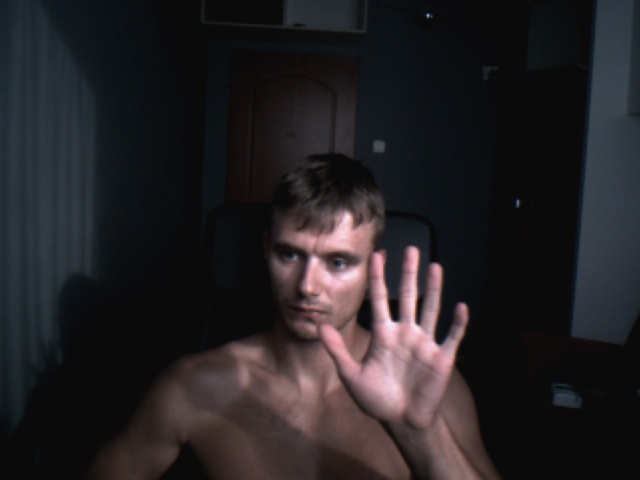open: (318, 247, 469, 427)
